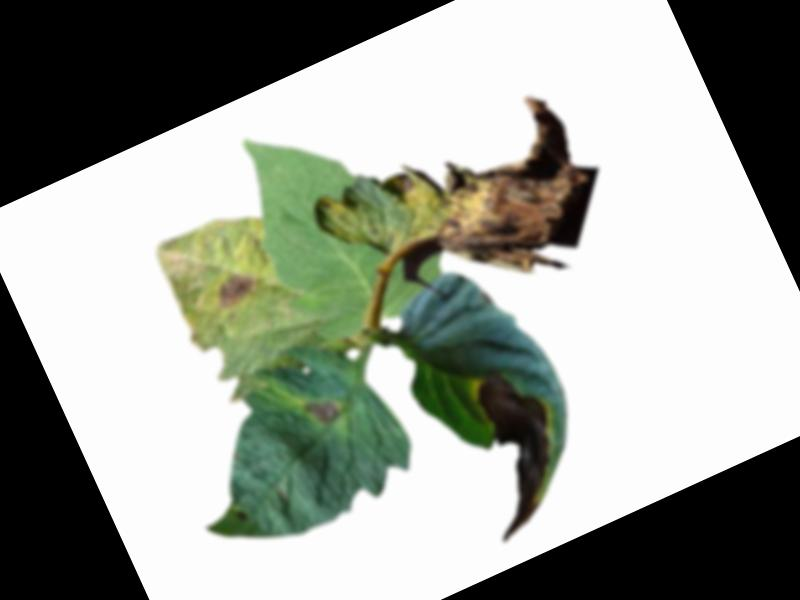Early_blight: (372, 86, 620, 314), (437, 354, 595, 543), (210, 264, 261, 311), (302, 388, 344, 429), (234, 506, 251, 524)
healthy: (219, 84, 459, 354)
